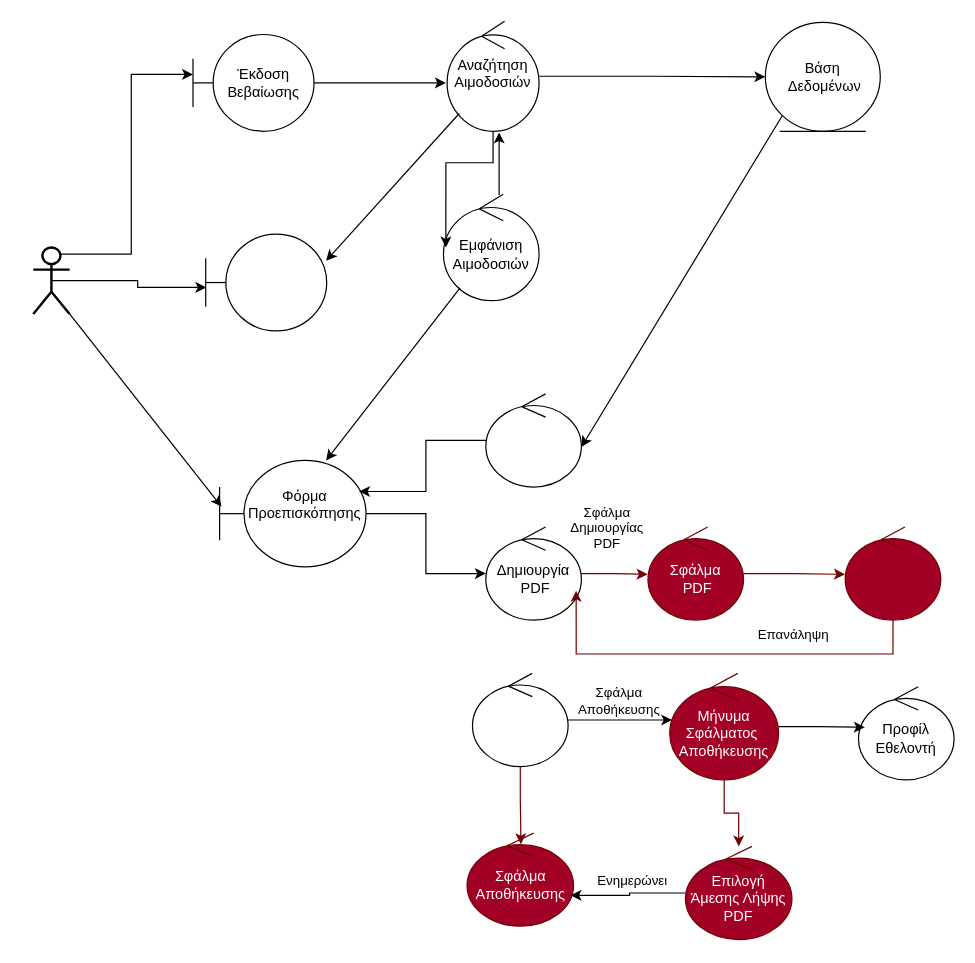
This 975x963 diagram has some shape labels left out. Each missing label, with the centre of its shape:
Ανάκτηση & Προετοιμασία Στοιχείων: the point at 533,440
Αποθήκευση στο Προφίλ: the point at 519,719
Λίστα Αιμοδοσιών: the point at 265,282
Μήνυμα Σφάλματος Δημιουργίας: the point at 892,573
Χρήστης: the point at 50,280
